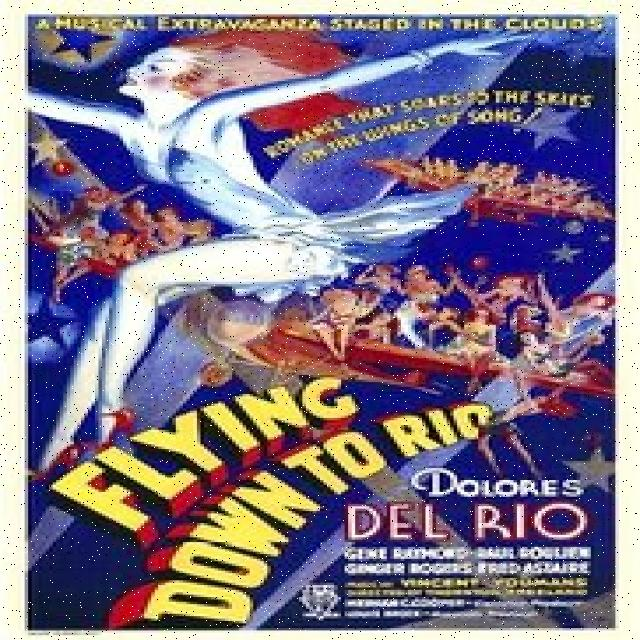movie-judul: (39, 377, 493, 631)
picture: (26, 15, 628, 405)
